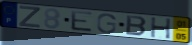8: (43, 7, 63, 30)
B: (125, 15, 149, 38)
E: (70, 10, 94, 33)
G: (96, 13, 118, 35)
H: (150, 17, 173, 40)
Z: (18, 5, 42, 29)
